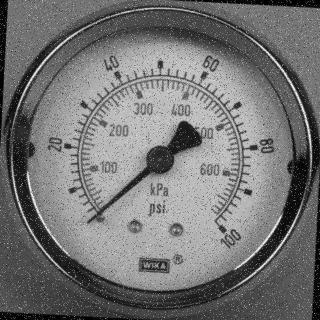gauge: (0, 0, 320, 320), (76, 197, 112, 235), (146, 145, 174, 175), (199, 209, 231, 235), (84, 212, 100, 228)
